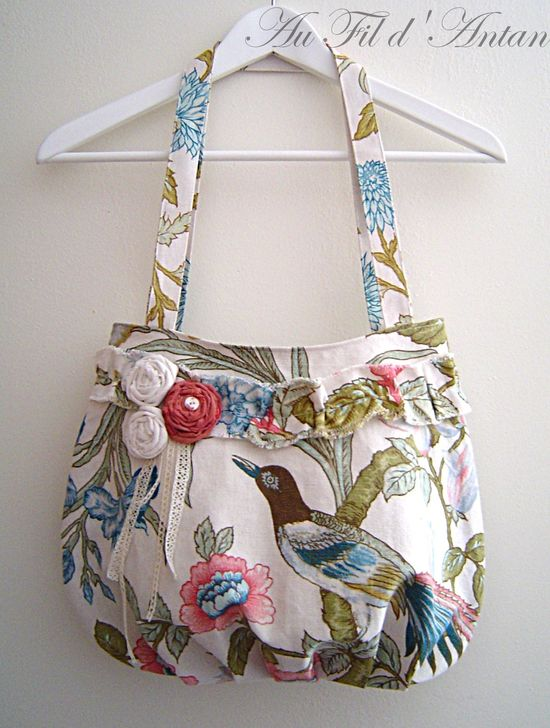cartera: (55, 41, 485, 688)
tela: (87, 334, 458, 669)
